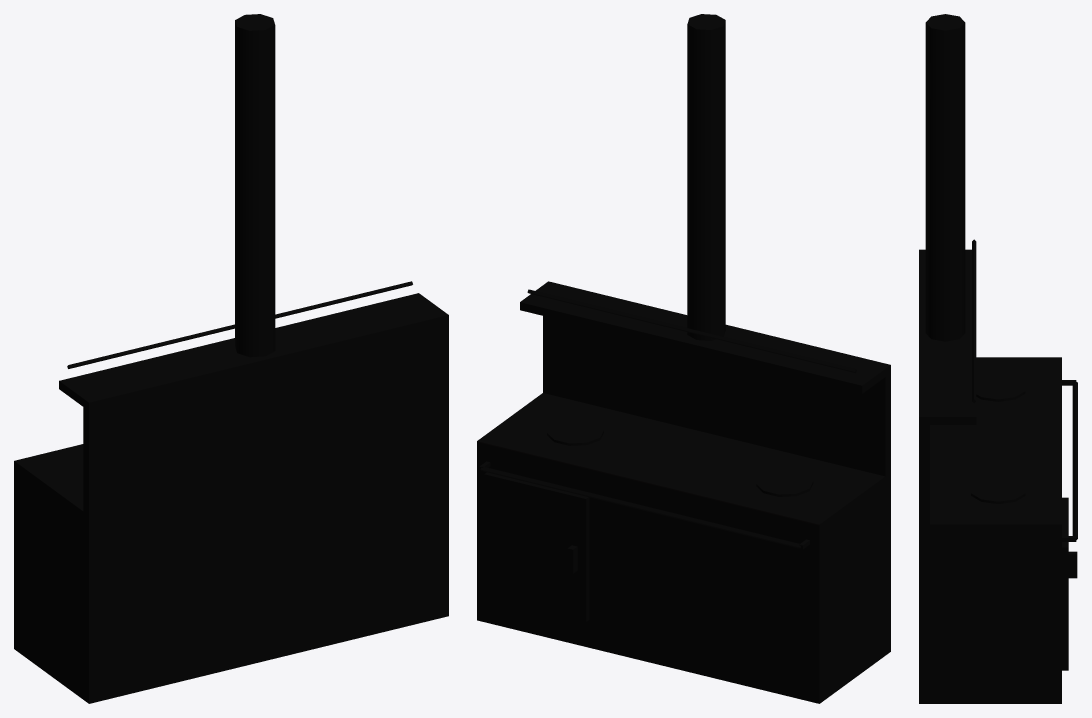
Rendered from SM_range_iron.fbx.
3 views of the same model, side by side, from view 1: azimuth 30°, elevation 25°; view 2: azimuth 150°, elevation 25°; view 3: azimuth 270°, elevation 25° (orthographic). The views are drawn at different scales.
Parts seen in each view (by area): view 1: range_iron; view 2: range_iron, range_iron_oven; view 3: range_iron, range_iron_oven.
Part boxes in pixels (<box>): range_iron: <box>14,14,448,703</box>; range_iron: <box>477,14,890,703</box>; range_iron_oven: <box>484,472,589,621</box>; range_iron: <box>919,14,1077,703</box>; range_iron_oven: <box>1062,497,1077,670</box>.
Size of the model in its own units: 1.8 by 3 by 0.722.
